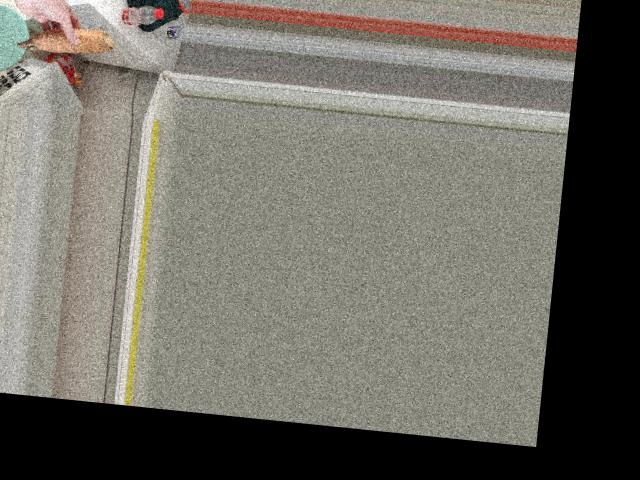sweet_potato: (14, 15, 120, 65)
